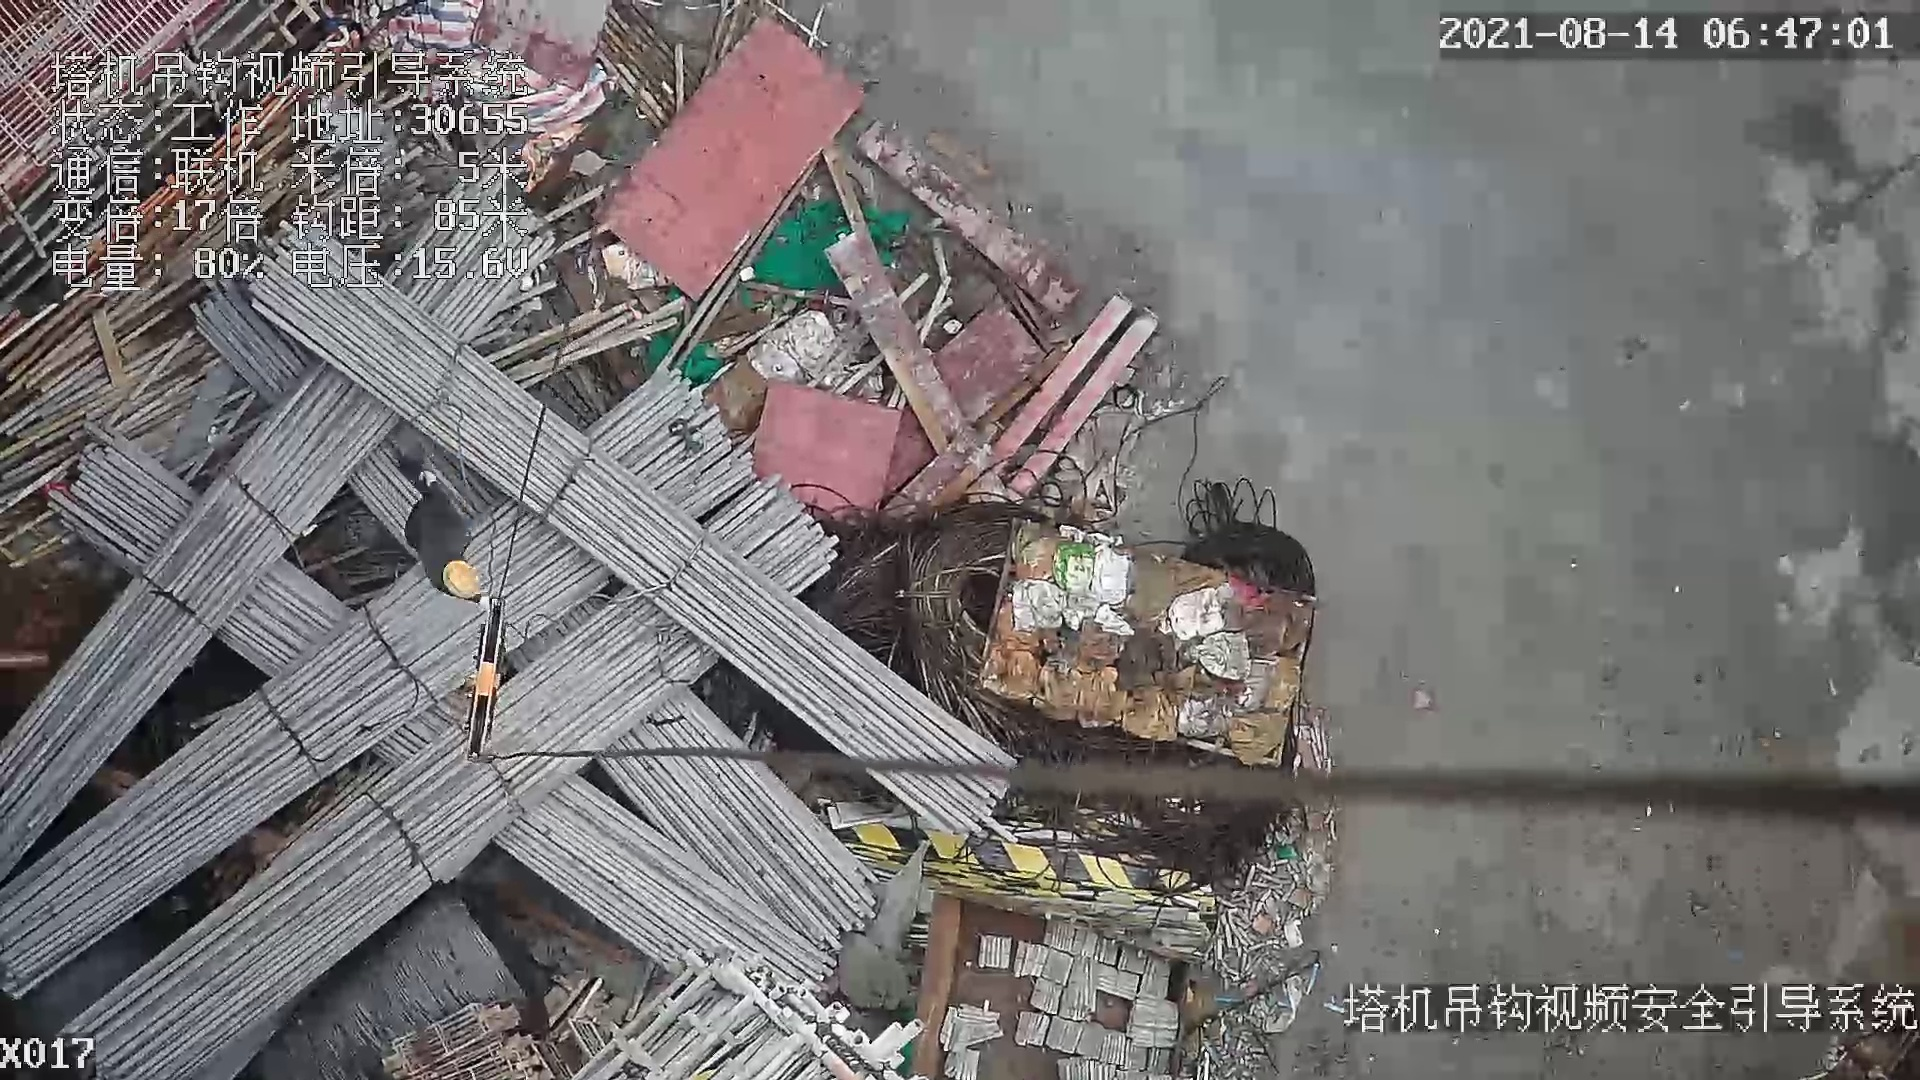board: (593, 13, 860, 304)
helmet: (440, 560, 478, 594)
hook: (464, 597, 514, 774)
person: (388, 450, 492, 592)
